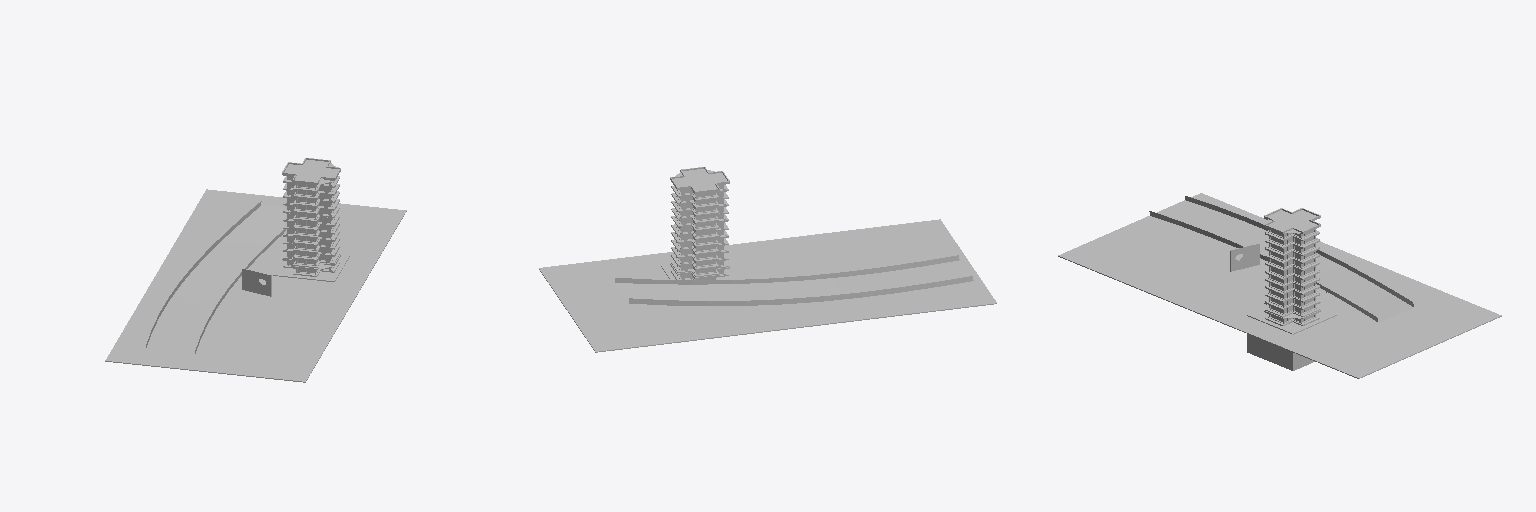
3 renders of one model, left to right at view 1: azimuth 30°, elevation 25°; view 2: azimuth 150°, elevation 25°; view 3: azimuth 270°, elevation 25°, orthographic.
Parts seen in each view (by area): view 1: base polySurface1, nurbsToPoly1 polySurface1, group13 polySurface2 polySurface1, pCube2 polySurface1, pCube925 polySurface1; view 2: base polySurface1, nurbsToPoly1 polySurface1, nurbsToPoly3 polySurface1, nurbsToPoly2 polySurface1, group13 polySurface2 polySurface1; view 3: base polySurface1, nurbsToPoly1 polySurface1, pCube925 polySurface1, group13 polySurface2 polySurface1, nurbsToPoly3 polySurface1, nurbsToPoly2 polySurface1, pCube2 polySurface1.
Part boxes in pixels (x1,y1,x2,y2): base polySurface1: (105, 189, 406, 382); nurbsToPoly1 polySurface1: (146, 205, 285, 354); group13 polySurface2 polySurface1: (282, 158, 340, 184); pCube2 polySurface1: (242, 268, 271, 296); pCube925 polySurface1: (273, 254, 349, 281); base polySurface1: (539, 219, 996, 352); nurbsToPoly1 polySurface1: (615, 261, 967, 302); nurbsToPoly3 polySurface1: (629, 276, 973, 305); nurbsToPoly2 polySurface1: (615, 255, 959, 284); group13 polySurface2 polySurface1: (670, 167, 729, 194); base polySurface1: (1058, 193, 1501, 378); nurbsToPoly1 polySurface1: (1151, 201, 1412, 322); pCube925 polySurface1: (1247, 306, 1336, 370); group13 polySurface2 polySurface1: (1264, 208, 1320, 234); nurbsToPoly3 polySurface1: (1185, 196, 1413, 306); nurbsToPoly2 polySurface1: (1149, 211, 1377, 321); pCube2 polySurface1: (1230, 243, 1259, 271).
Bounding box in the file's own units: 164 × 54.48 × 166.